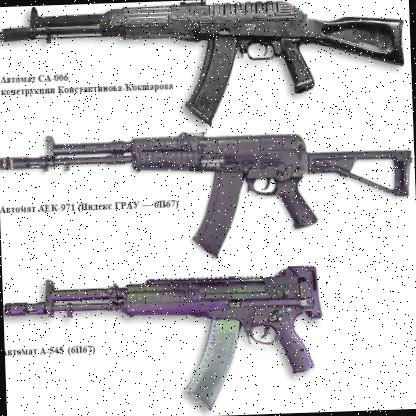rifle: (0, 0, 409, 141), (0, 117, 411, 257), (2, 251, 327, 416)
